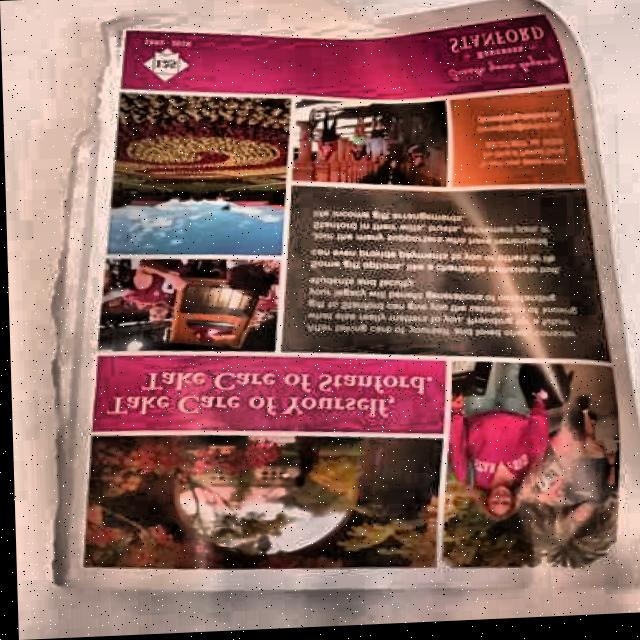paper: (40, 0, 640, 616)
